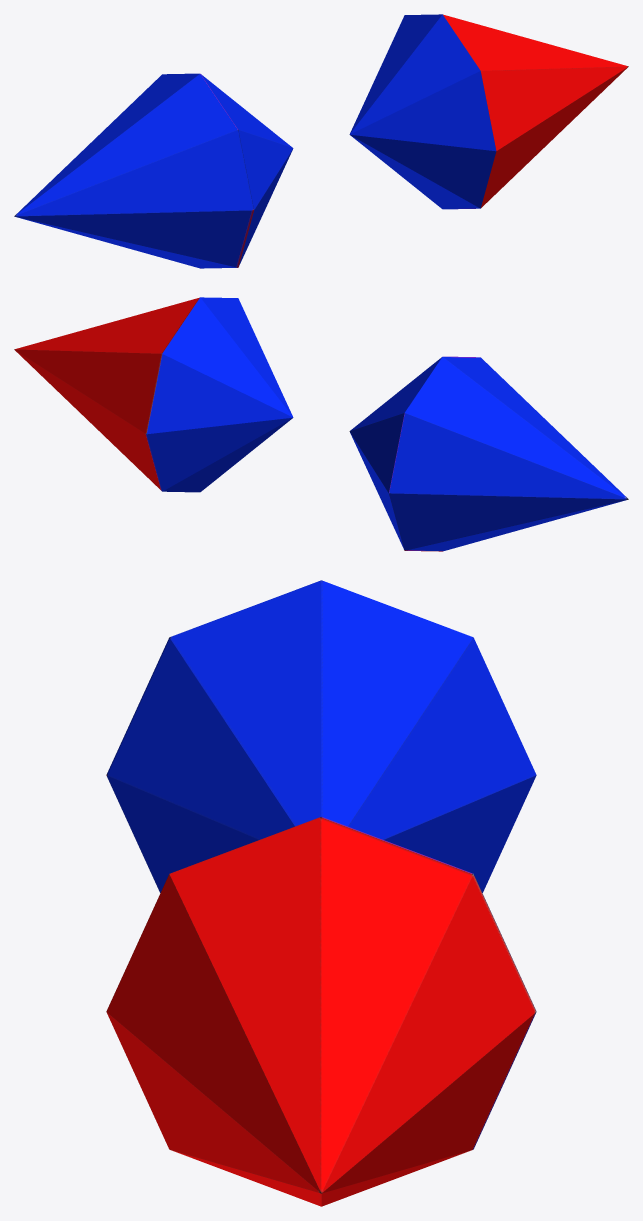
File: newSummoner.obj
3 views of the same model, one above another, from view 1: azimuth 30°, elevation 25°; view 2: azimuth 150°, elevation 25°; view 3: azimuth 270°, elevation 25° (orthographic). The views are drawn at different scales.
Visible parts, largest first — view 1: Cone.000; view 2: Cone.000; view 3: Cone.000.
Part boxes in pixels (<box>): Cone.000: <box>14,14,628,268</box>; Cone.000: <box>14,297,628,551</box>; Cone.000: <box>106,580,536,1206</box>.
Size of the model in its own units: 1.65 by 0.5 by 0.5.
